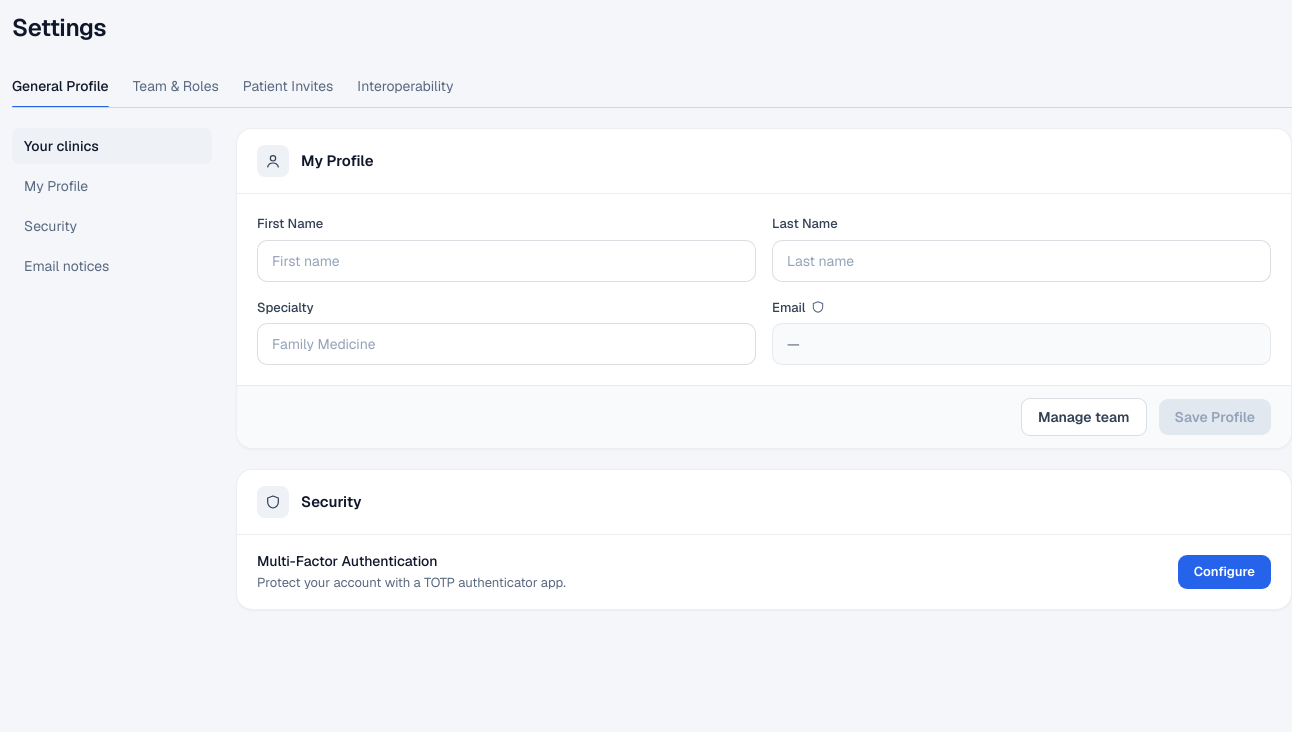
Scenario: Settings team and roles › shows providers a read-only note and the active staff list
Click the button "Team & Roles": {"x": 176, "y": 86} [133,64,219,108]
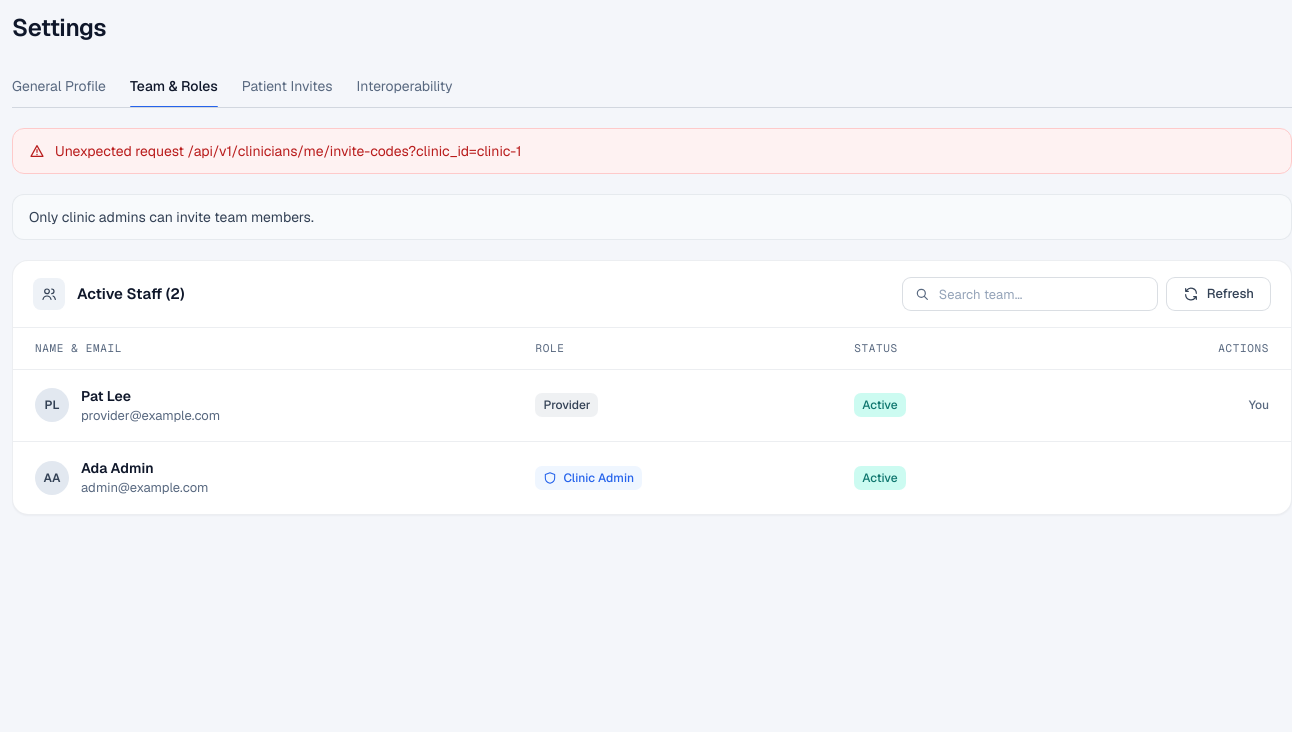
Result: the heading "Active Staff (2)" is shown at [77,283,184,305]
Result: the text "Only clinic admins can invite team members." is shown at [12,194,1291,240]
Result: the text "admin@example.com" is shown at [81,478,208,498]
